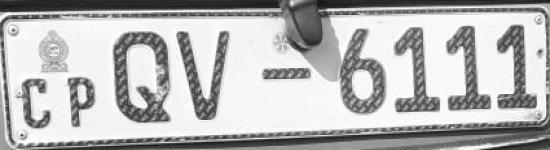-: (257, 64, 315, 86)
1: (390, 24, 442, 118), (444, 20, 492, 115), (494, 16, 540, 112)
6: (334, 25, 389, 120)
C: (17, 74, 58, 133)
P: (65, 73, 99, 131)
Q: (108, 28, 174, 131)
V: (175, 28, 236, 125)
